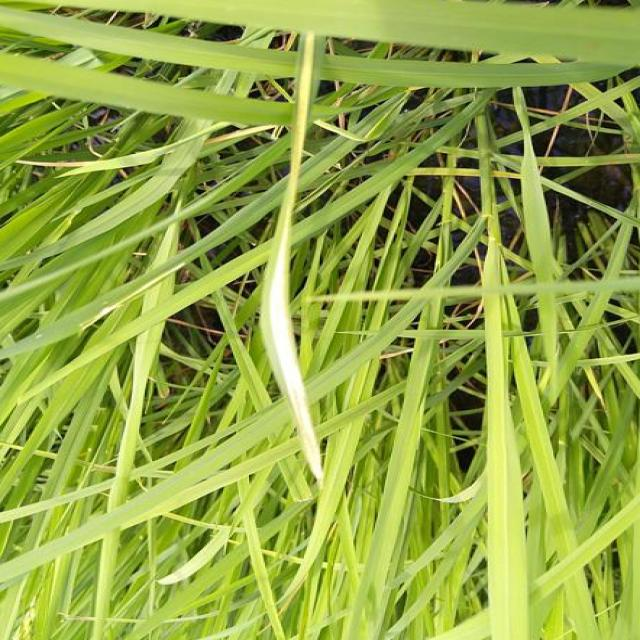Leaf Blight: (262, 34, 324, 479)
